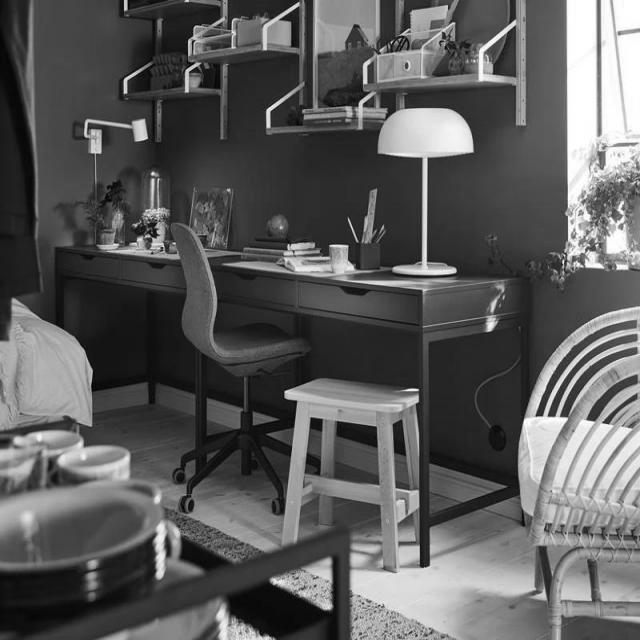table: (49, 198, 532, 376)
